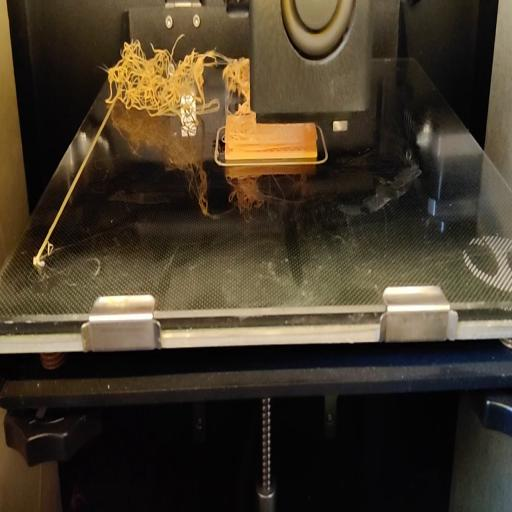spaghetti: (104, 32, 216, 121), (226, 49, 250, 115)
